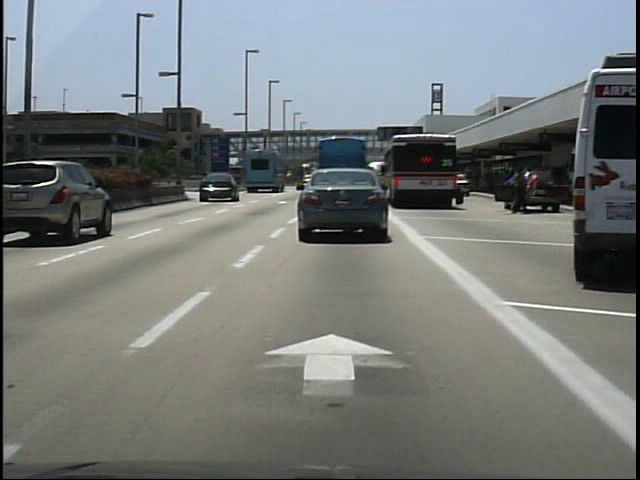person: (508, 164, 531, 217)
